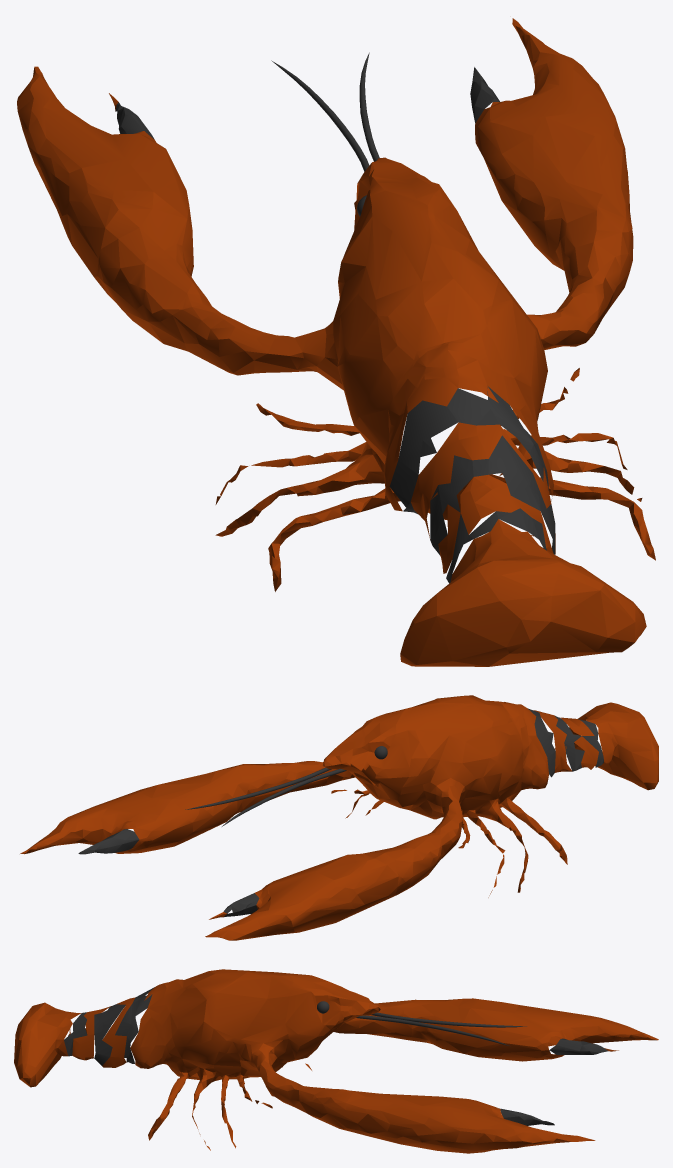
The model's file is animals-crayfish-055.glb.
The picture shows the model from 3 angles, top to bottom: view 1: azimuth 30°, elevation 25°; view 2: azimuth 150°, elevation 25°; view 3: azimuth 270°, elevation 25°; orthographic projection. The views are drawn at different scales.
Parts seen in each view (by area): view 1: crayfish_work1; view 2: crayfish_work1, PM3D_Cylinder3D, PM3D_Cylinder3D_1; view 3: crayfish_work1, PM3D_Cylinder3D, PM3D_Cylinder3D_1.
Part boxes in pixels (bbox=[...]): crayfish_work1: bbox=[17, 18, 655, 666]; crayfish_work1: bbox=[20, 695, 658, 940]; PM3D_Cylinder3D: bbox=[185, 767, 331, 809]; PM3D_Cylinder3D_1: bbox=[222, 768, 346, 826]; crayfish_work1: bbox=[14, 969, 658, 1153]; PM3D_Cylinder3D: bbox=[356, 1015, 509, 1046]; PM3D_Cylinder3D_1: bbox=[371, 1012, 526, 1027].
Size of the model in its own units: 51.07 by 21.67 by 89.45.
